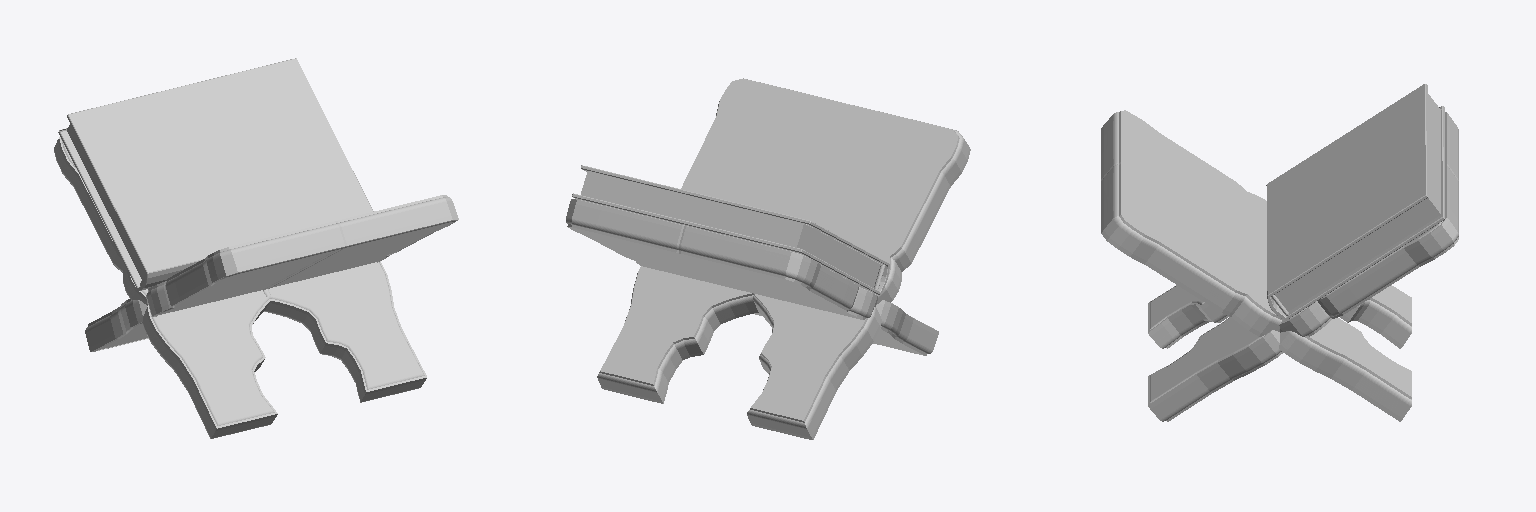
The model's file is quran.obj.
3 views of the same model, side by side, from view 1: azimuth 30°, elevation 25°; view 2: azimuth 150°, elevation 25°; view 3: azimuth 270°, elevation 25° (orthographic).
Size of the model in its own units: 0.4206 by 0.3937 by 0.548.